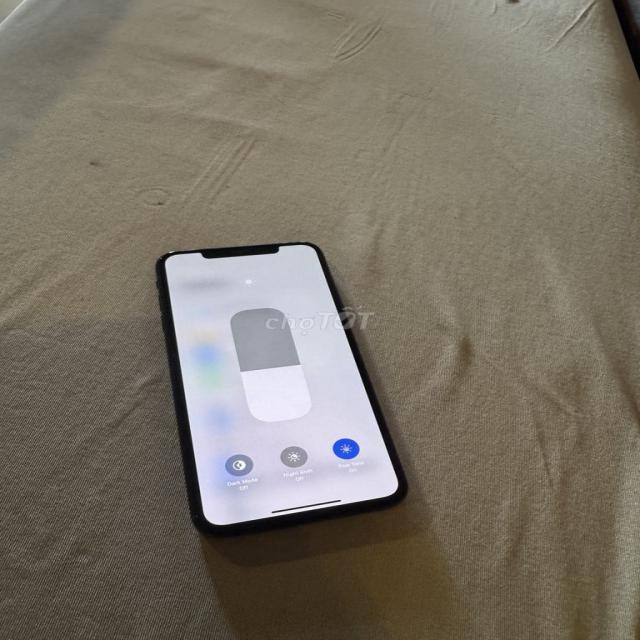scratch: (156, 247, 182, 261)
